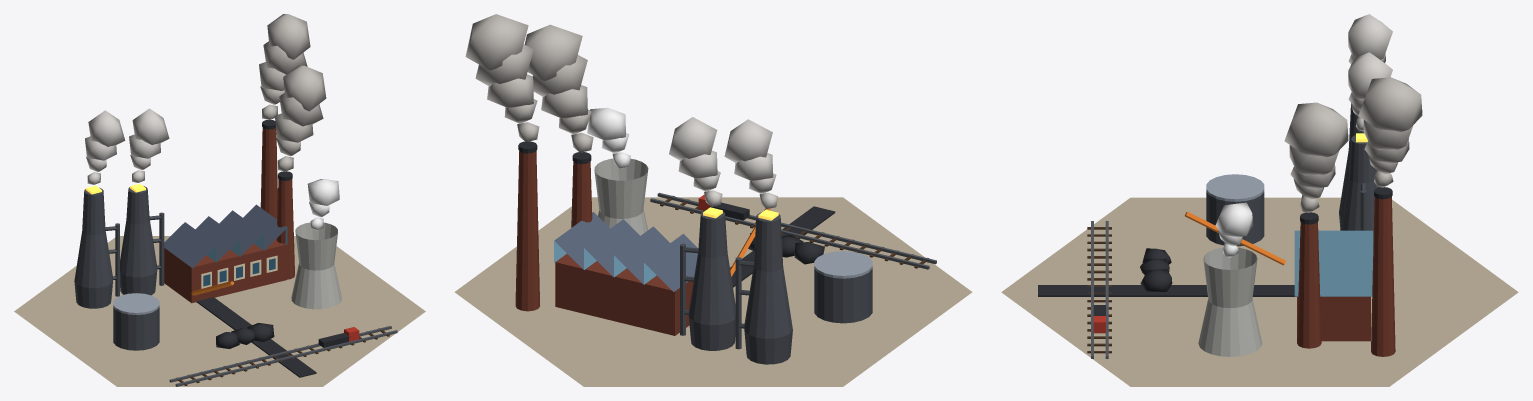
The model's file is wonder_ruhr_valley.fbx.
3 renders of one model, left to right at view 1: azimuth 30°, elevation 25°; view 2: azimuth 150°, elevation 25°; view 3: azimuth 270°, elevation 25°, orthographic. The views are drawn at different scales.
Parts seen in each view (by area): view 1: wonder_ruhr_valley; view 2: wonder_ruhr_valley; view 3: wonder_ruhr_valley.
Boxes of the visible parts, x1=… form: wonder_ruhr_valley: x1=14, y1=14, x2=425, y2=386; wonder_ruhr_valley: x1=454, y1=14, x2=972, y2=386; wonder_ruhr_valley: x1=1001, y1=14, x2=1518, y2=386.
Size of the model in its own units: 182 by 129 by 210.
